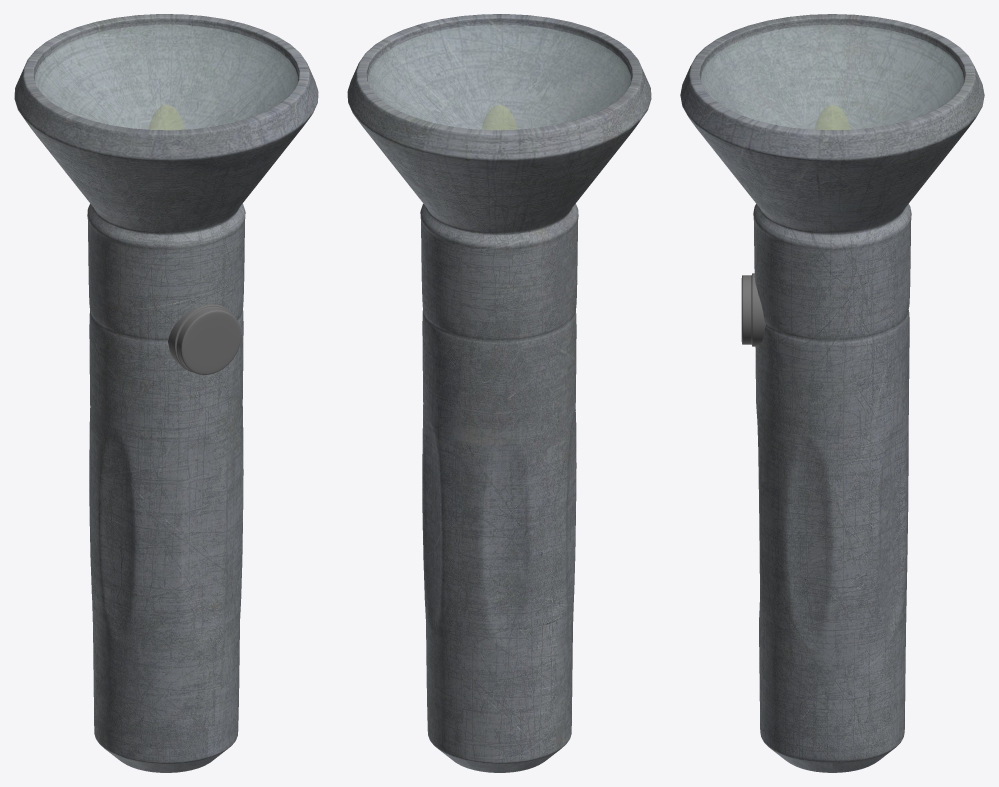
File: flashlight-texture.fbx
The picture shows the model from 3 angles, left to right: view 1: azimuth 30°, elevation 25°; view 2: azimuth 150°, elevation 25°; view 3: azimuth 270°, elevation 25°; orthographic projection.
Parts seen in each view (by area): view 1: pCylinder1, pasted__polySurface2, pCylinder2, pSphere1; view 2: pCylinder1, pasted__polySurface2, pSphere1; view 3: pCylinder1, pasted__polySurface2, pCylinder2, pSphere1.
Boxes of the visible parts, x1,y1,x2,y2 form: pCylinder1: (14,14,318,772); pasted__polySurface2: (35,25,297,129); pCylinder2: (168,304,241,374); pSphere1: (148,105,183,129); pCylinder1: (347,14,651,772); pasted__polySurface2: (368,25,630,129); pSphere1: (482,105,517,129); pCylinder1: (680,14,984,772); pasted__polySurface2: (701,25,963,129); pCylinder2: (741,273,765,346); pSphere1: (814,105,850,129).
Size of the model in its own units: 4.17 by 10.24 by 4.17.
Materials: 4 (1 with a texture image).
